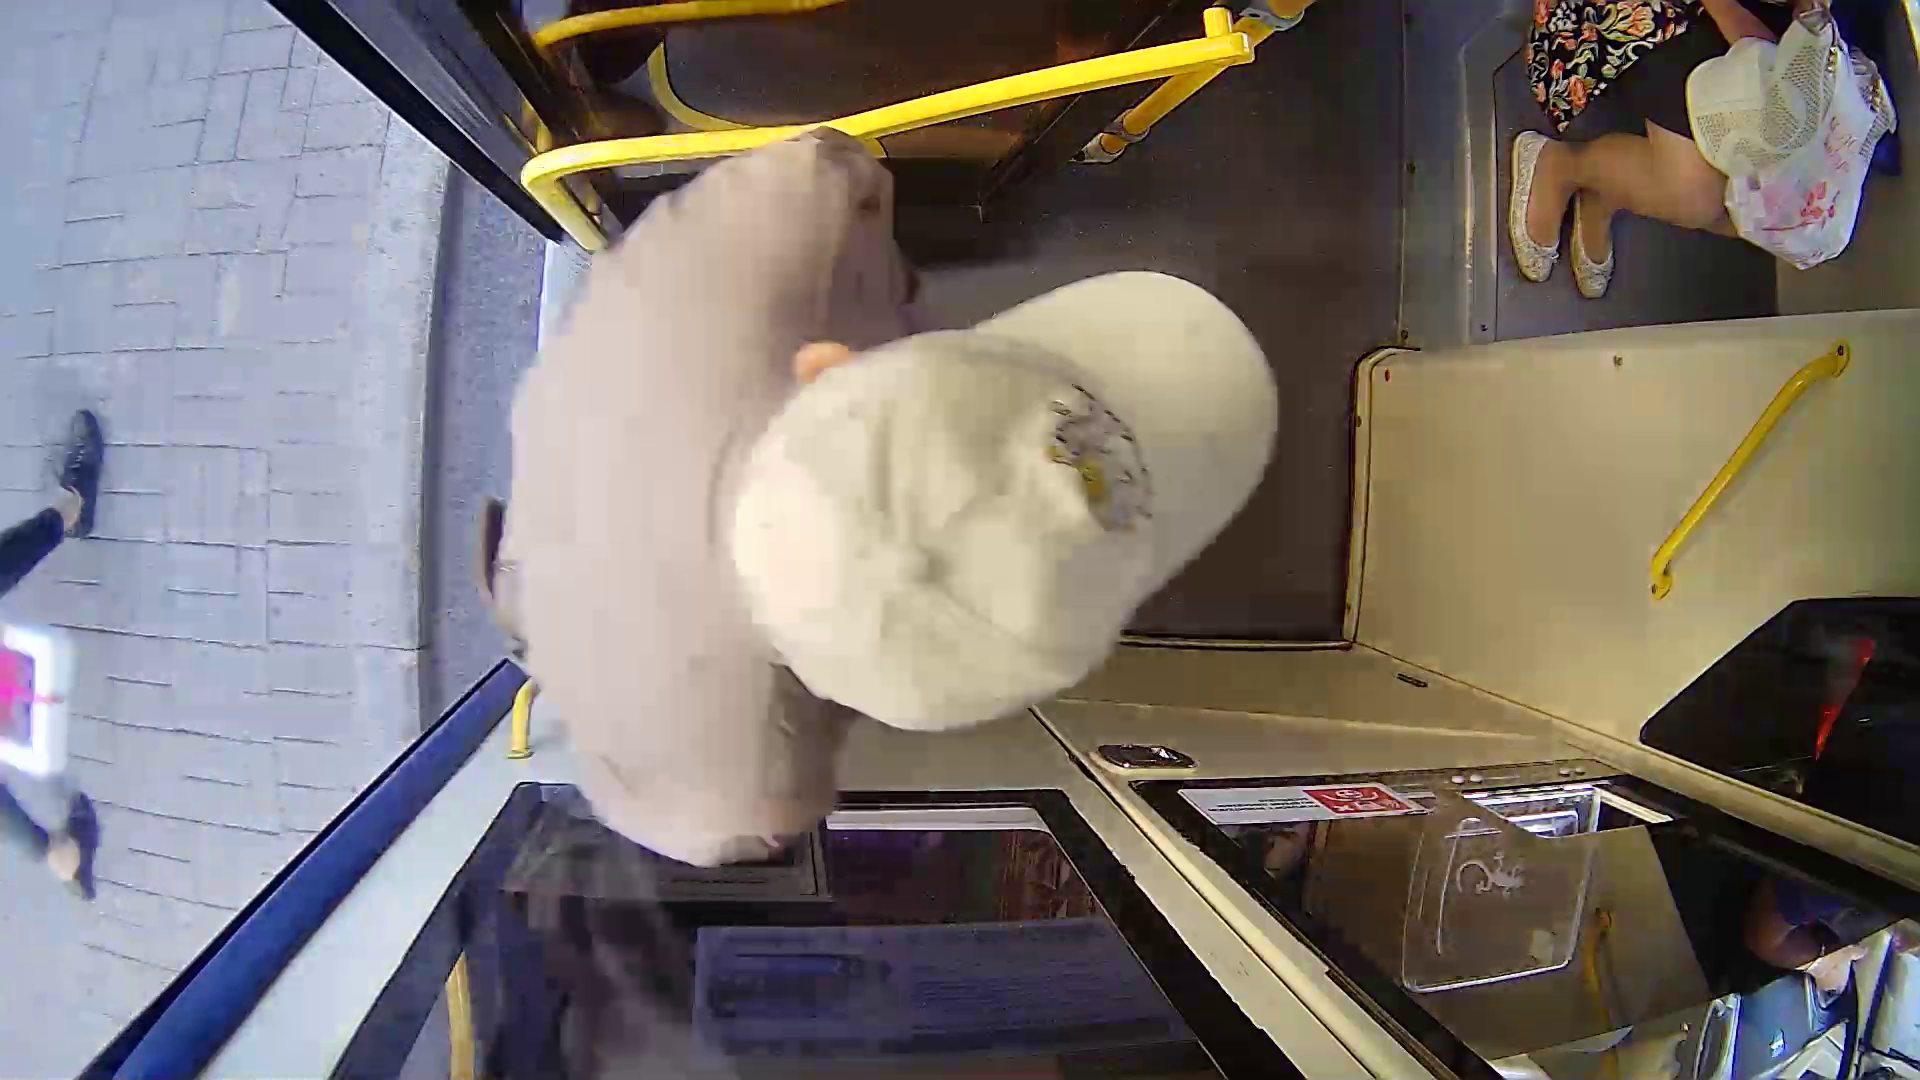person: (505, 126, 1442, 908)
